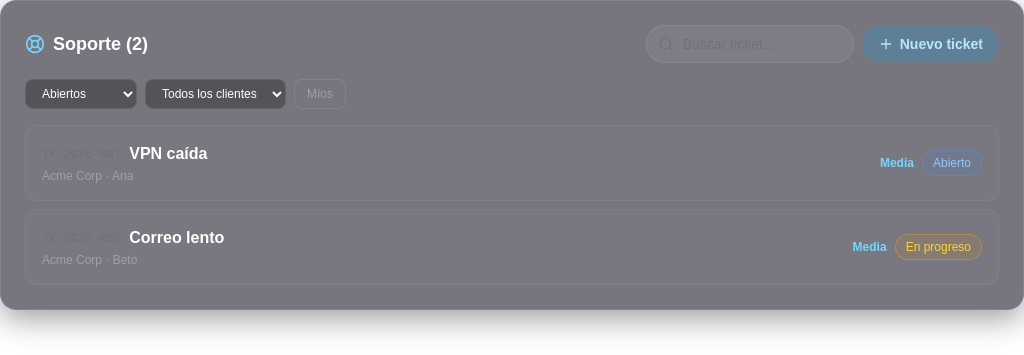
Test case: TicketsSection › filters to the signed-in user's tickets with 'Míos'
The width and height of the screenshot is (1024, 355).
Click the button "Míos" at point(320, 94), box [294,79,346,109]
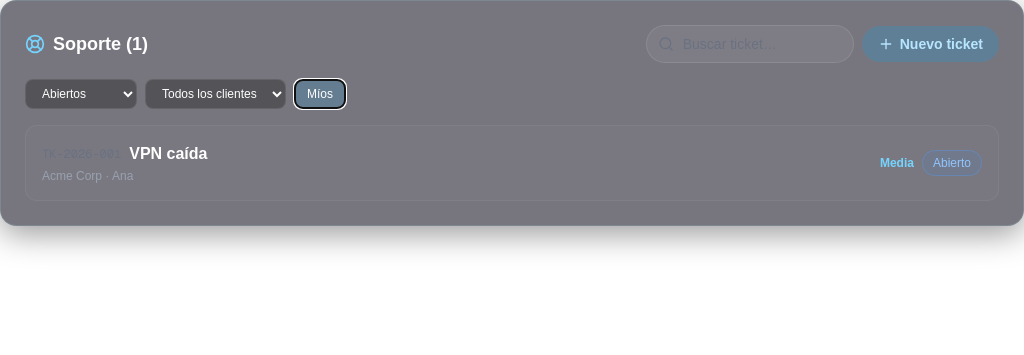
expect the text "VPN caída" is shown: met, box [129,142,208,166]
expect the button "Correo lento" is gone: met
